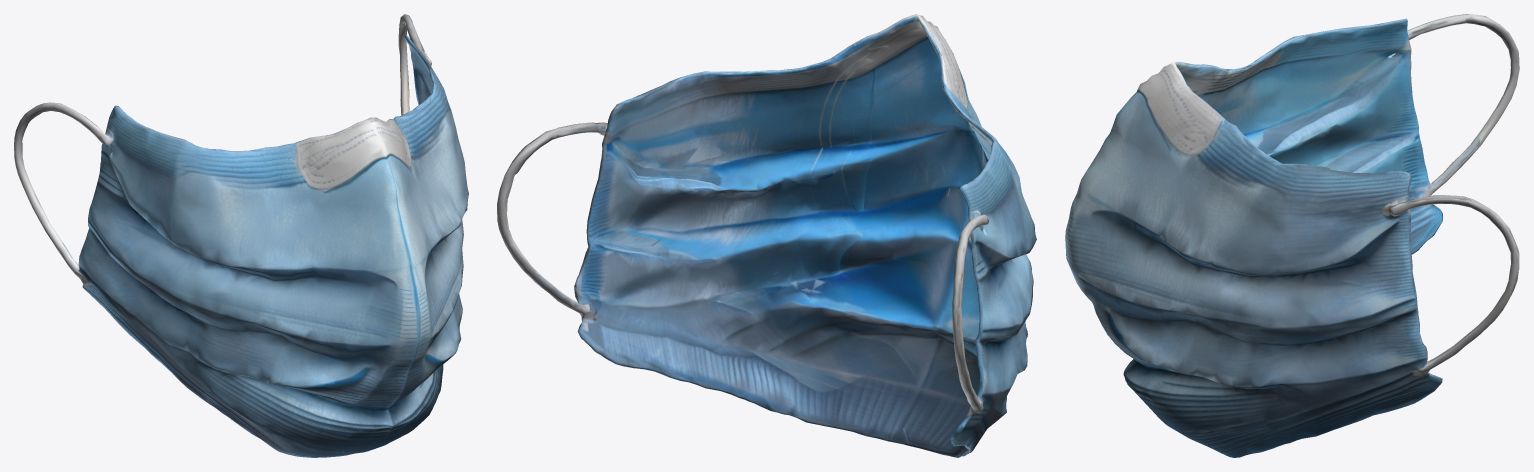
The model's file is Meshy_AI__Hyperrealistic_3D_re_1225112828_texture_opt.glb.
3 renders of one model, left to right at view 1: azimuth 30°, elevation 25°; view 2: azimuth 150°, elevation 25°; view 3: azimuth 270°, elevation 25°, orthographic. The views are drawn at different scales.
Size of the model in its own units: 2 by 1.71 by 1.87.
Materials: 1 (1 with a texture image).
